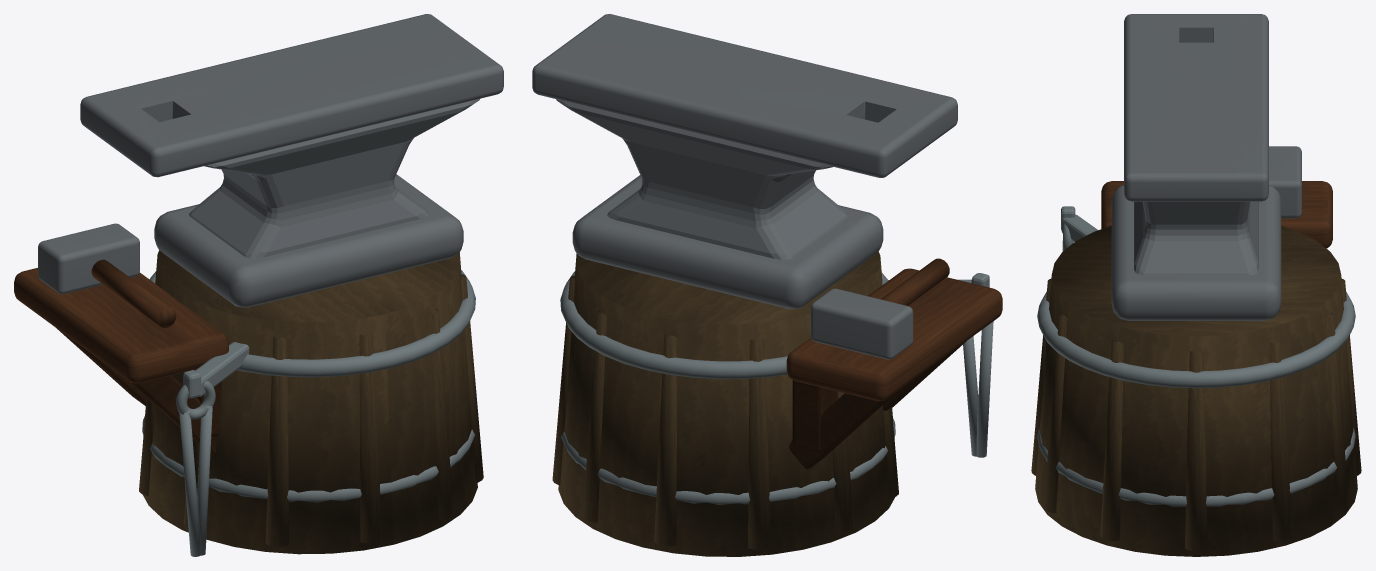
The model's file is anvil_station.glb.
3 renders of one model, left to right at view 1: azimuth 30°, elevation 25°; view 2: azimuth 150°, elevation 25°; view 3: azimuth 270°, elevation 25°, orthographic. The views are drawn at different scales.
Visible parts, largest first — view 1: Anvil spreading foot.001, Solid oak stump.001, Tool shelf.001, Stump band.002, Shelf brace.002; view 2: Anvil spreading foot.001, Solid oak stump.001, Tool shelf.001, Stump band.002, Shelf brace.002; view 3: Solid oak stump.001, Anvil spreading foot.001, Stump band.002, Tool shelf.001.
Boxes of the visible parts, x1,y1,x2,y2 form: Anvil spreading foot.001: [38, 14, 503, 307]; Solid oak stump.001: [139, 250, 483, 554]; Tool shelf.001: [14, 259, 228, 383]; Stump band.002: [142, 270, 475, 556]; Shelf brace.002: [56, 328, 222, 455]; Anvil spreading foot.001: [532, 14, 957, 359]; Solid oak stump.001: [552, 251, 898, 556]; Tool shelf.001: [786, 258, 1002, 401]; Stump band.002: [560, 271, 993, 504]; Shelf brace.002: [789, 341, 966, 469]; Solid oak stump.001: [1031, 225, 1361, 556]; Anvil spreading foot.001: [1111, 14, 1301, 320]; Stump band.002: [1037, 206, 1355, 506]; Tool shelf.001: [1101, 181, 1332, 248].
Bounding box in the file's own units: 1.03 × 1.03 × 0.7977.
Materials: 5 (3 with a texture image).
